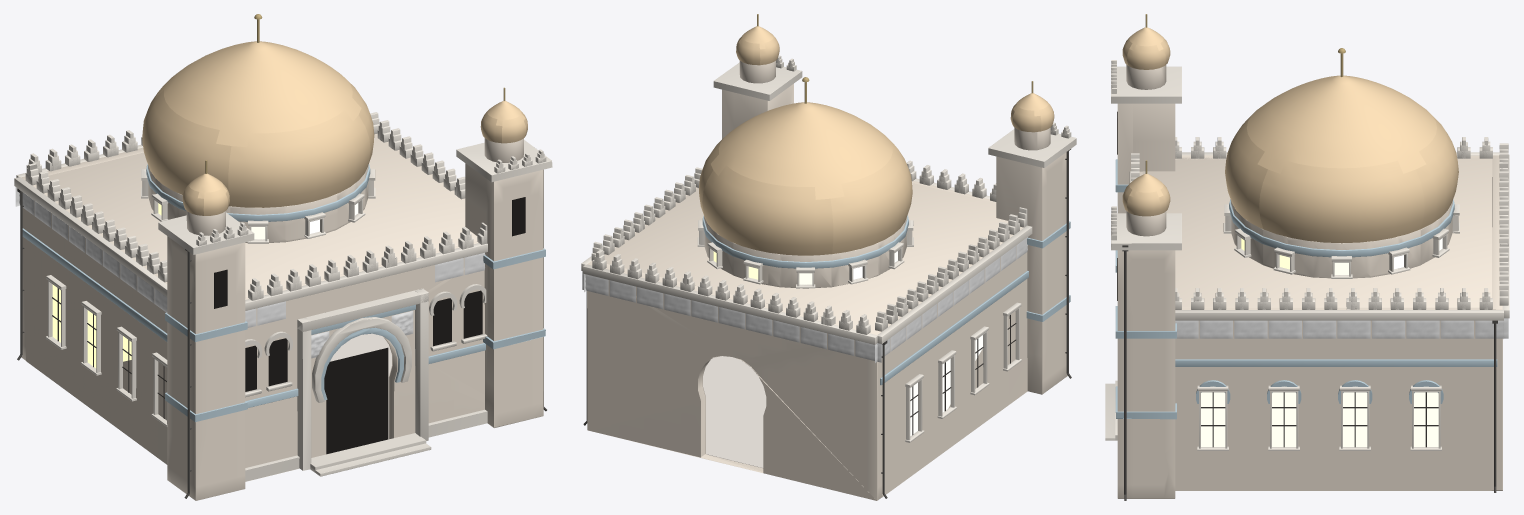
Rendered from shrine-observatory.glb.
The picture shows the model from 3 angles, left to right: view 1: azimuth 30°, elevation 25°; view 2: azimuth 150°, elevation 25°; view 3: azimuth 270°, elevation 25°; orthographic projection. The views are drawn at different scales.
Parts seen in each view (by area): view 1: observatory_wall, observatory_trim, observatory_dome, observatory_shadow, observatory_tile, merged_observatory_relief_shrine-band, detail_observatory_pipe, observatory_glass, observatory_floor, merged_observatory_relief_shrine-panel; view 2: observatory_wall, observatory_dome, observatory_trim, merged_observatory_relief_shrine-band, observatory_floor, observatory_tile, detail_observatory_pipe, observatory_glass; view 3: observatory_wall, observatory_dome, observatory_trim, observatory_tile, merged_observatory_relief_shrine-band, observatory_glass, detail_observatory_pipe, detail_observatory_frame.
Boxes of the visible parts, box(x1,y1,x2,y2) form: observatory_wall: box(21, 133, 543, 500); observatory_trim: box(14, 112, 552, 481); observatory_dome: box(142, 41, 527, 215); observatory_shadow: box(214, 197, 525, 454); observatory_tile: box(22, 164, 545, 422); merged_observatory_relief_shrine-band: box(15, 187, 485, 327); detail_observatory_pipe: box(17, 170, 546, 498); observatory_glass: box(52, 203, 358, 368); observatory_floor: box(330, 333, 391, 438); merged_observatory_relief_shrine-panel: box(311, 311, 413, 358); observatory_wall: box(587, 61, 1067, 500); observatory_dome: box(698, 26, 1054, 255); observatory_trim: box(581, 55, 1076, 442); merged_observatory_relief_shrine-band: box(582, 237, 1027, 362); observatory_floor: box(703, 356, 766, 467); observatory_tile: box(702, 215, 1070, 385); detail_observatory_pipe: box(583, 149, 1071, 498); observatory_glass: box(713, 251, 982, 435); observatory_wall: box(1117, 64, 1502, 498); observatory_dome: box(1122, 27, 1458, 243); observatory_trim: box(1105, 60, 1509, 450); observatory_tile: box(1115, 159, 1497, 419); merged_observatory_relief_shrine-band: box(1175, 318, 1508, 338); observatory_glass: box(1201, 238, 1442, 446); detail_observatory_pipe: box(1122, 245, 1497, 500); detail_observatory_frame: box(1201, 392, 1438, 447).
Size of the model in its own units: 18.97 by 18.17 by 18.2.
